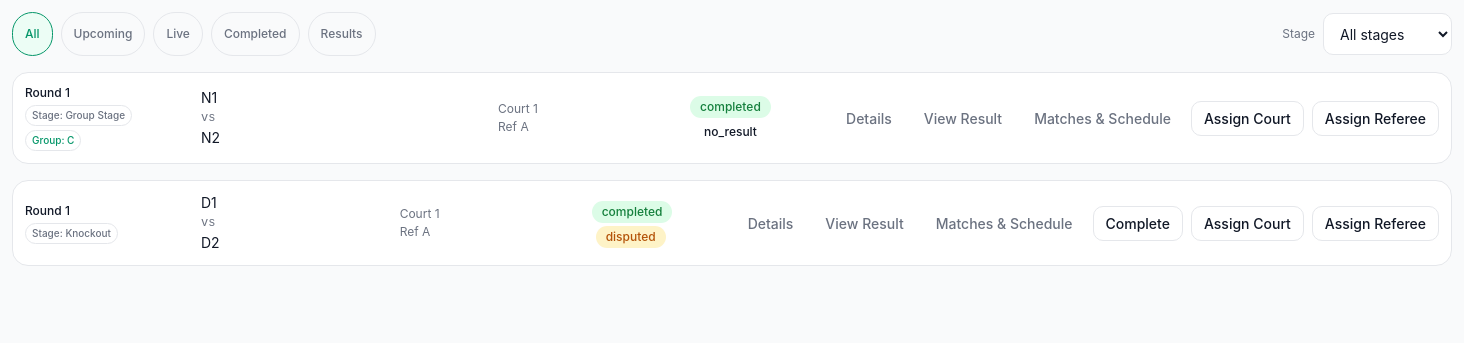
Test case: Tournament Hub Results management (Step 3F) › 6. stage/group context renders in result cards (GSK group vs knockout)
Click the button "Results".
click(342, 34)  # box [308,12,376,56]
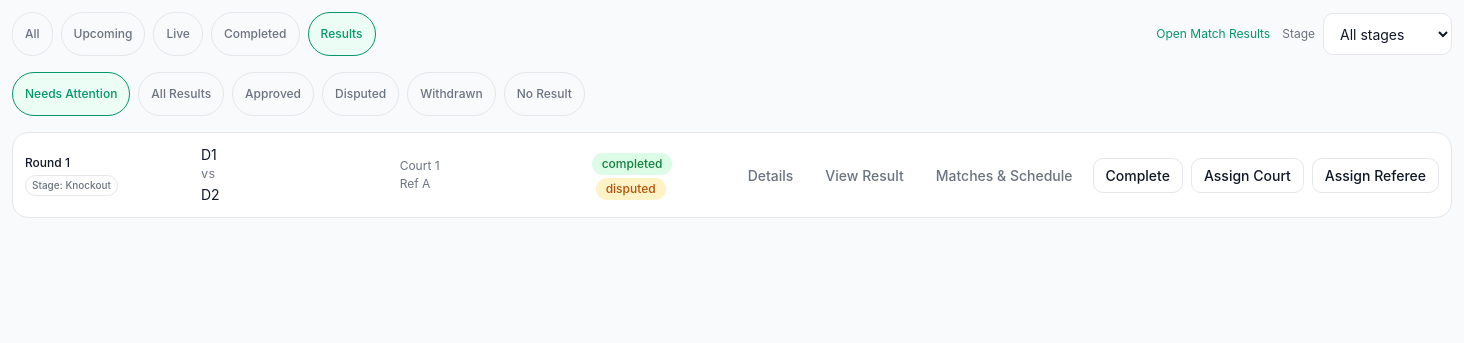
Click the button "All Results".
click(181, 94)  # box [138,72,224,116]
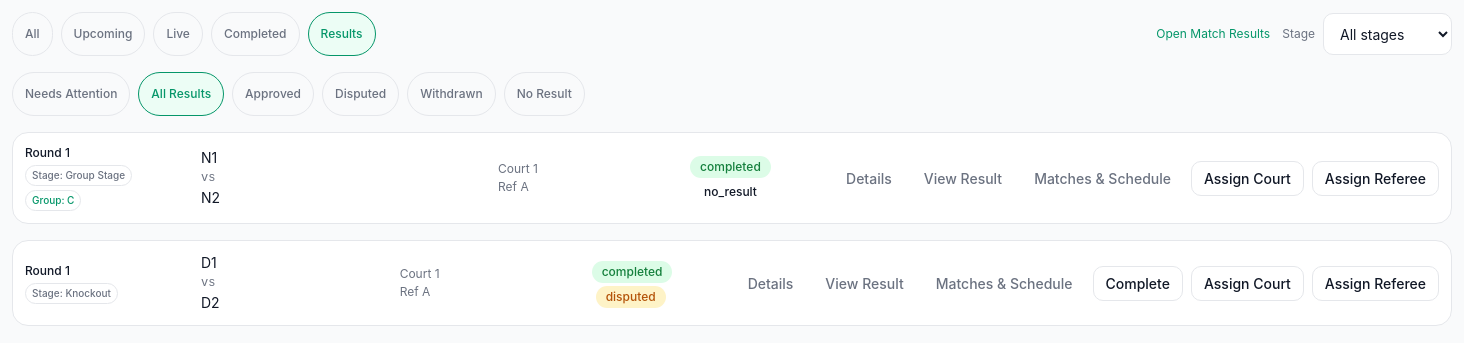
Expected: the text "Stage: Knockout" is shown, [25,282,118,304]
Now the text "Group: C" is shown, box [25,190,81,211]
Now the text "Stage: Group Stage" is shown, box [25,165,132,186]
